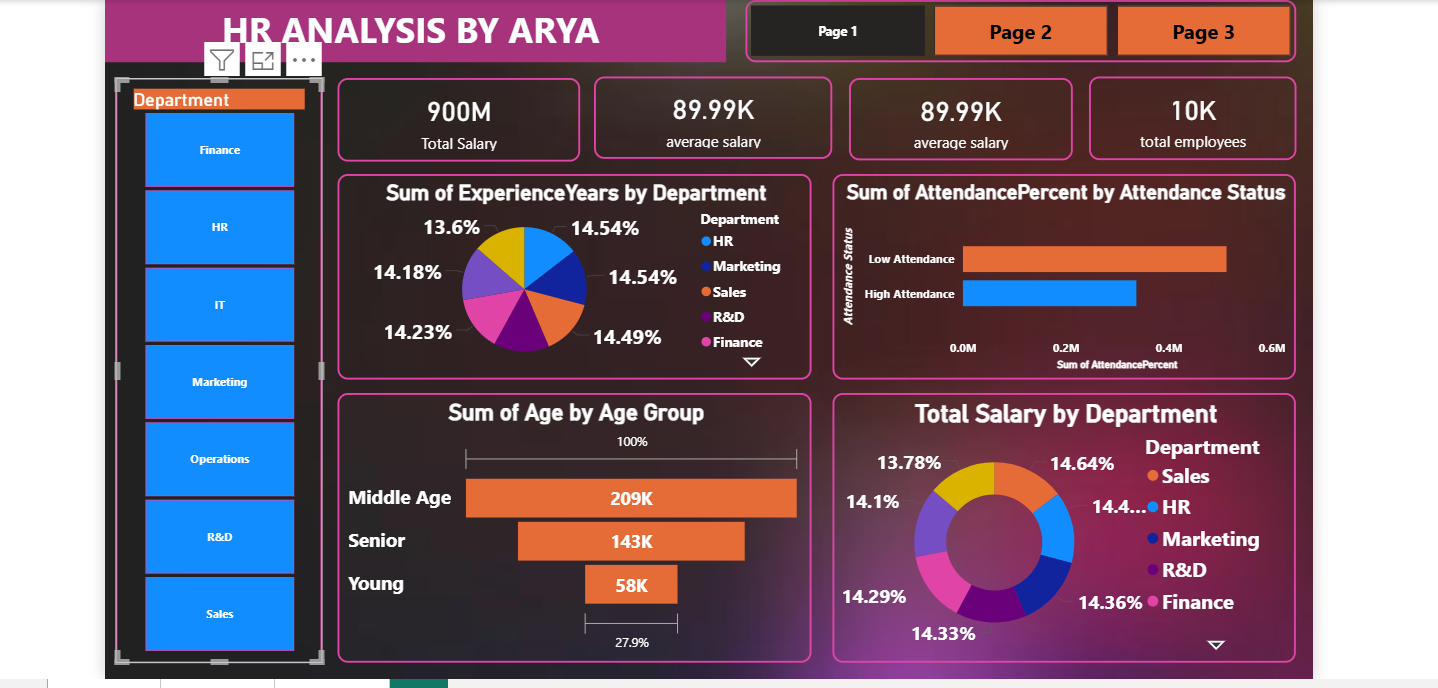

This screenshot's page, from the dashboard's own definition file:
{"tool":"powerbi","page":{"name":"Page 1","canvas":[1280,720],"ordinal":0},"visuals":[{"type":"pageNavigator","box":[678.6,0,584.3,65.7],"z":0},{"type":"slicer","fields":{"Values":["Employee_Data.Department"]},"box":[11.1,82.7,219.5,620.3],"z":1000},{"type":"card","fields":{"Values":["Employee_Data.Total Slary"]},"box":[247.1,82.9,257.1,88.6],"z":2000},{"type":"card","fields":{"Values":["Employee_Data.AVERAGE SALARY"]},"box":[788.6,82.9,237.1,87.1],"z":3000},{"type":"donutChart","fields":{"Y":["Employee_Data.Total Slary"],"Category":["Employee_Data.Department"]},"box":[771.4,416.7,491.5,286.3],"z":4000},{"type":"clusteredBarChart","fields":{"Category":["Employee_Data.Attendance Status"],"Y":["Sum(Employee_Data.AttendancePercent)"]},"box":[771.4,184.5,491.5,217.9],"z":5000},{"type":"funnel","fields":{"Y":["Sum(Employee_Data.Age)"],"Category":["Employee_Data.Age Group"]},"box":[246.5,416.7,502.6,286.3],"z":6000},{"type":"pieChart","fields":{"Category":["Employee_Data.Department"],"Y":["Sum(Employee_Data.ExperienceYears)"]},"box":[246.5,184.5,502.6,217.9],"z":7000},{"type":"card","fields":{"Values":["Employee_Data.AVERAGE SALARY"]},"box":[518.6,81.4,252.9,87.1],"z":8000},{"type":"card","fields":{"Values":["Employee_Data.total employees"]},"box":[1042.9,81.4,220,88.6],"z":9000},{"type":"textbox","box":[0,0,658.6,65.7],"z":10000}]}

Visuals, with their boxes on the page's 1280x720 design canvas (x1, y1, x2, y2). These are canvas units, not pixel positions in the 1438x688 screenshot, which may show the page scaled, cropped or inside an application window:
pageNavigator: crop(679, 0, 1263, 66)
slicer - Employee_Data.Department: crop(11, 83, 231, 703)
card - Employee_Data.Total Slary: crop(247, 83, 504, 172)
card - Employee_Data.AVERAGE SALARY: crop(789, 83, 1026, 170)
donutChart - Employee_Data.Total Slary x Employee_Data.Department: crop(771, 417, 1263, 703)
clusteredBarChart - Employee_Data.Attendance Status x Sum(Employee_Data.AttendancePercent): crop(771, 184, 1263, 402)
funnel - Sum(Employee_Data.Age) x Employee_Data.Age Group: crop(246, 417, 749, 703)
pieChart - Employee_Data.Department x Sum(Employee_Data.ExperienceYears): crop(246, 184, 749, 402)
card - Employee_Data.AVERAGE SALARY: crop(519, 81, 772, 168)
card - Employee_Data.total employees: crop(1043, 81, 1263, 170)
textbox: crop(0, 0, 659, 66)
